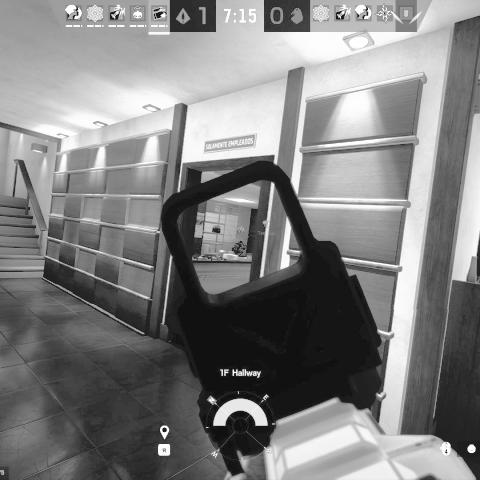Character: (231, 240, 248, 257)
Friend_label: (258, 220, 275, 236), (233, 226, 247, 241)
Head: (239, 240, 243, 245)
